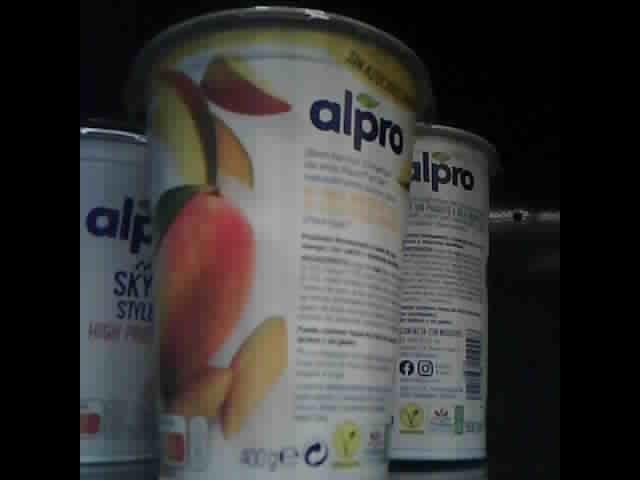alpro: (133, 5, 427, 480), (386, 121, 504, 462), (80, 115, 158, 467)
